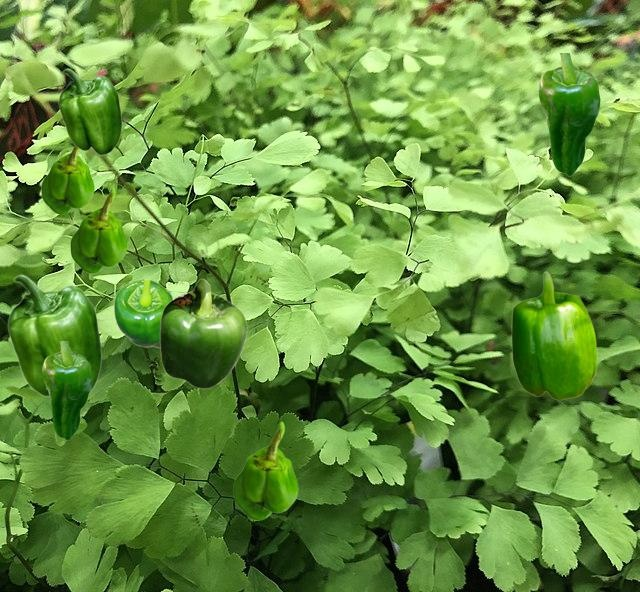bell_pepper: (7, 274, 101, 397), (511, 271, 596, 399), (159, 278, 246, 388), (538, 53, 599, 175), (233, 421, 297, 519), (58, 68, 121, 154), (70, 186, 126, 272), (42, 341, 91, 439), (113, 278, 173, 347), (41, 146, 93, 213)
